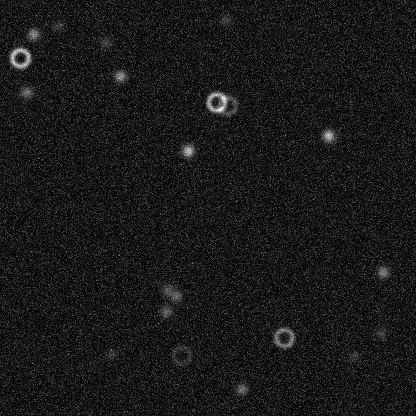Ring: (169, 343, 193, 367), (215, 93, 239, 117), (204, 90, 228, 114), (8, 45, 32, 69), (271, 325, 295, 349)
Spot: (167, 288, 183, 304), (25, 26, 41, 42), (320, 127, 336, 143), (233, 381, 249, 397), (346, 347, 362, 363), (112, 67, 128, 83), (50, 18, 66, 34), (372, 324, 388, 340), (374, 263, 390, 279), (158, 303, 174, 319), (218, 11, 234, 27), (103, 345, 119, 361), (18, 84, 34, 100), (97, 34, 113, 50), (158, 281, 174, 297), (180, 142, 196, 158)
